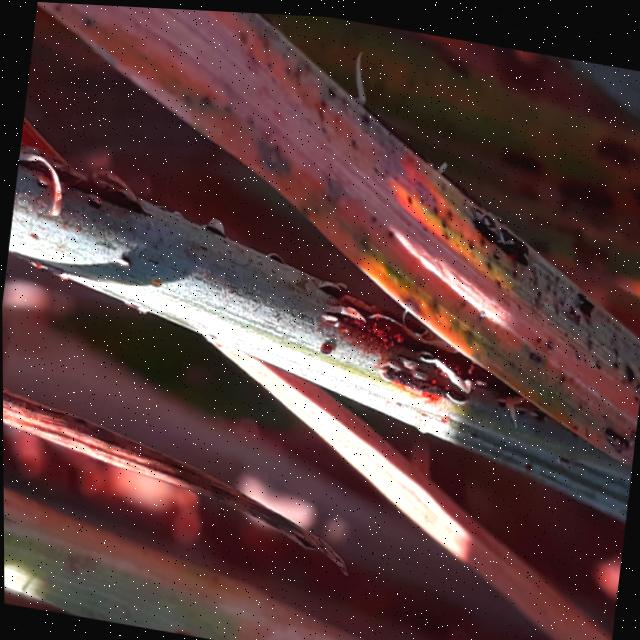black_stem_rust: (0, 0, 640, 497), (2, 393, 518, 640)
